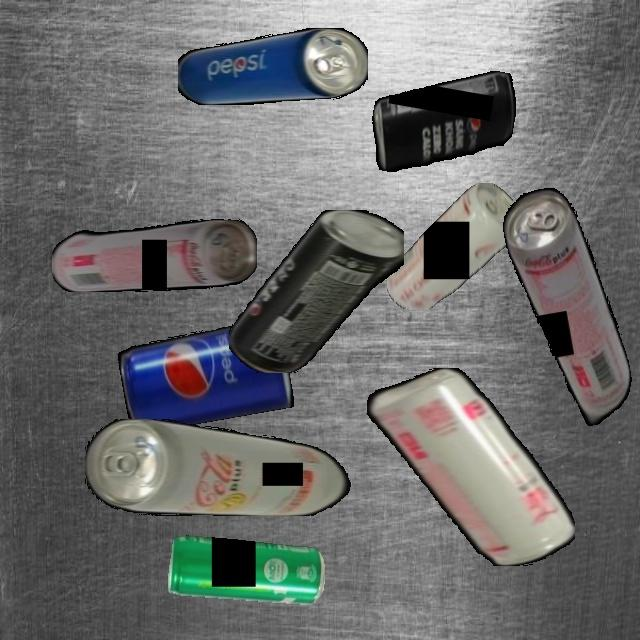debris: (366, 368, 575, 566), (497, 179, 638, 434), (229, 209, 404, 373), (85, 418, 356, 516), (364, 52, 522, 191), (116, 317, 295, 435), (386, 182, 521, 310), (51, 219, 257, 292), (177, 28, 368, 105), (167, 534, 325, 605)
